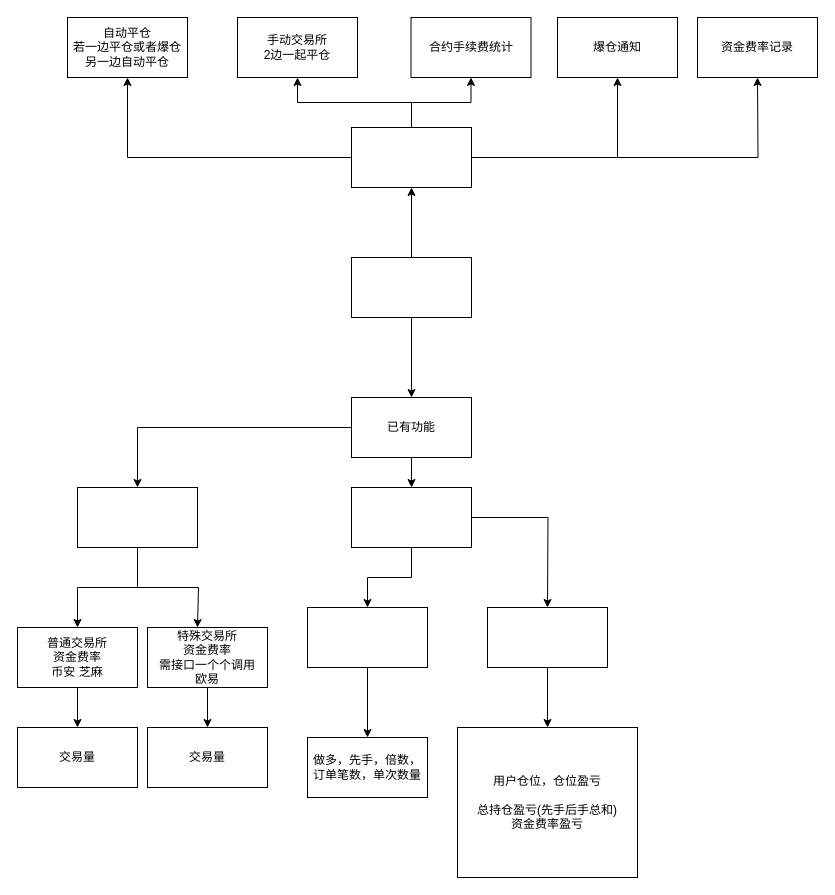
Some shapes in this 835 by 895 pixel diagram are drawn without their labels. Here are the shapes that lost their labels. From the top down, the centre of each, then its label:
At pixel 411 157: "待新增".
At pixel 411 287: "功能点".
At pixel 137 517: "交易所模块".
At pixel 411 517: "交易模块".
At pixel 367 637: "下单".
At pixel 547 637: "统计模块".
